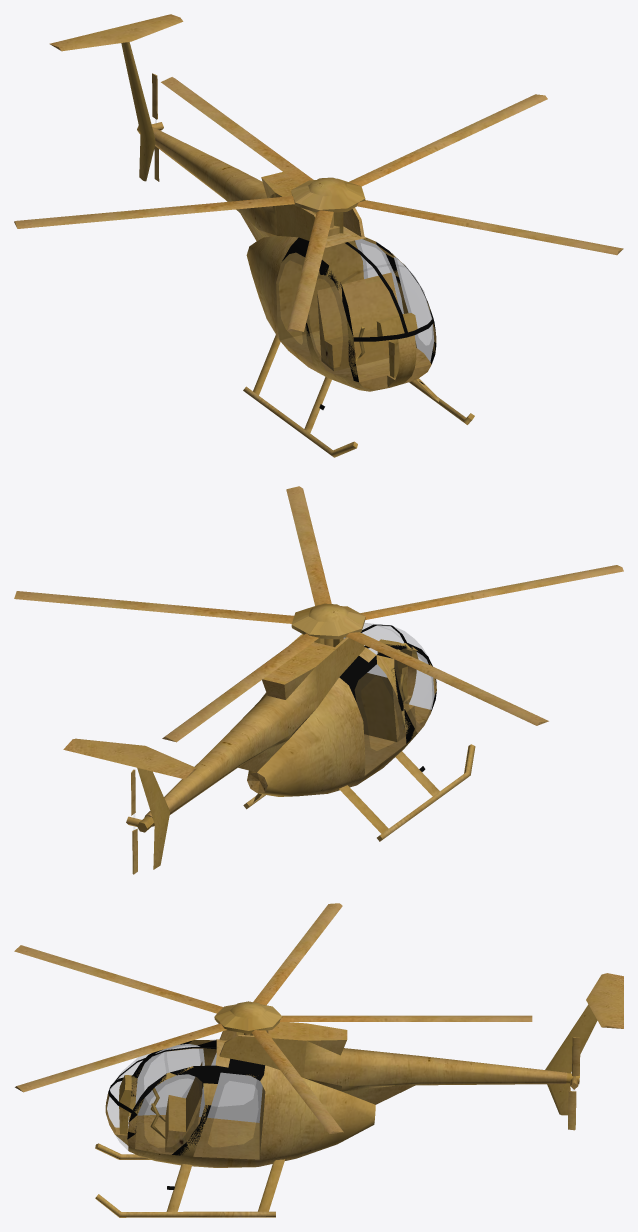
Rendered from halicapter.FBX.
3 views of the same model, one above another, from view 1: azimuth 30°, elevation 25°; view 2: azimuth 150°, elevation 25°; view 3: azimuth 270°, elevation 25° (orthographic). The views are drawn at different scales.
Parts seen in each view (by area): view 1: md501, Rotor001, Front_door, Tail001, Back_doors; view 2: md501, Rotor001, Tail001, Back_doors, Front_door, Tail_roto0; view 3: md501, Rotor001, Front_door, Back_doors, Tail001, Tail_roto0.
Boxes of the visible parts, x1,y1,x2,y2 form: md501: (137, 125, 474, 457); Rotor001: (14, 77, 623, 331); Front_door: (307, 257, 433, 380); Tail001: (49, 14, 183, 181); Back_doors: (276, 239, 403, 362); md501: (137, 623, 475, 841); Rotor001: (14, 486, 623, 742); Tail001: (63, 738, 197, 869); Back_doors: (355, 664, 405, 774); Front_door: (344, 638, 434, 732); Tail_roto0: (126, 769, 141, 874); md501: (95, 1022, 579, 1217); Rotor001: (14, 903, 532, 1133); Front_door: (135, 1044, 204, 1154); Back_doors: (193, 1053, 264, 1159); Tail001: (545, 973, 623, 1115); Tail_roto0: (568, 1037, 580, 1130).
Bounding box in the file's own units: 18.74 × 7.12 × 20.99.
Materials: 4 (1 with a texture image).
